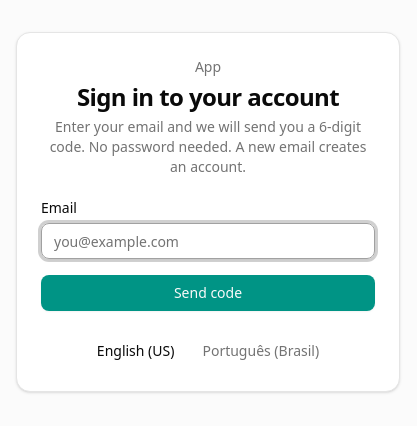
LoginPage › sends the email in the language of the page and asks for the code
In the field labelled "Email": (208, 241) [41,223,375,259], type "ana@example.com"
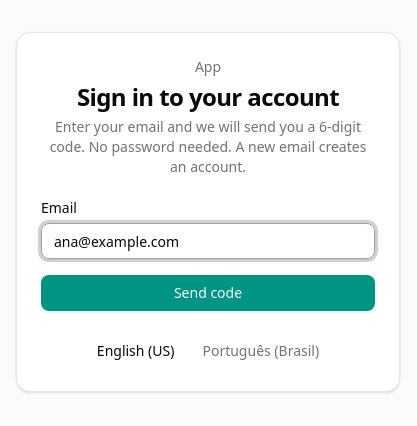
Click the button "Send code": (208, 293) [41,275,375,311]
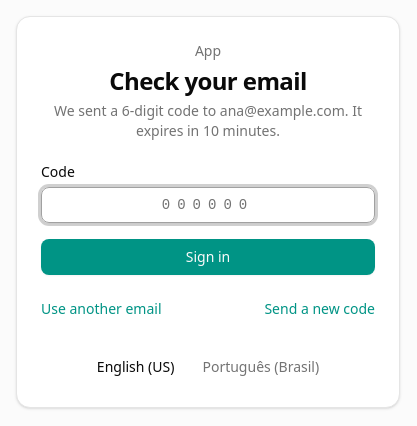
expect the heading "Check your email" is shown: met, box [109,64,307,97]
expect the text "We sent a 6-digit code to ana@example.com" is shown: met, box [54,101,362,140]
